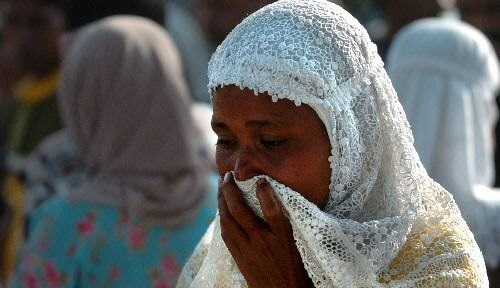face_mask: (213, 66, 341, 225)
